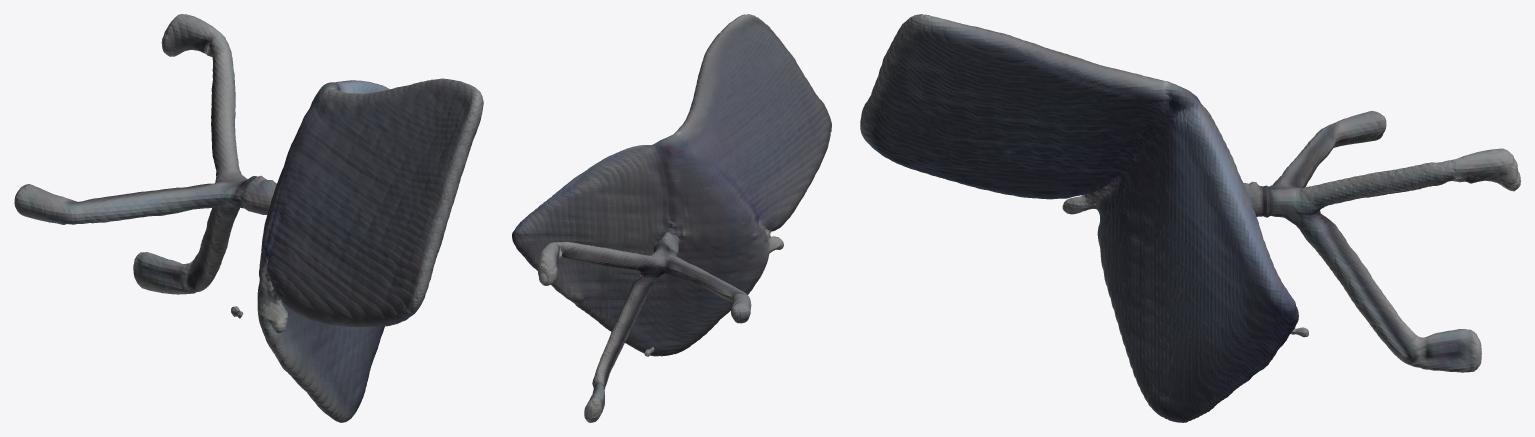
The picture shows the model from 3 angles, left to right: view 1: azimuth 30°, elevation 25°; view 2: azimuth 150°, elevation 25°; view 3: azimuth 270°, elevation 25°; orthographic projection. The views are drawn at different scales.
Parts seen in each view (by area): view 1: world; view 2: world; view 3: world.
Boxes of the visible parts, x1,y1,x2,y2 form: world: (14,14,483,422); world: (512,14,831,422); world: (860,14,1520,422).
Size of the model in its own units: 0.8304 by 0.8399 by 1.24.
